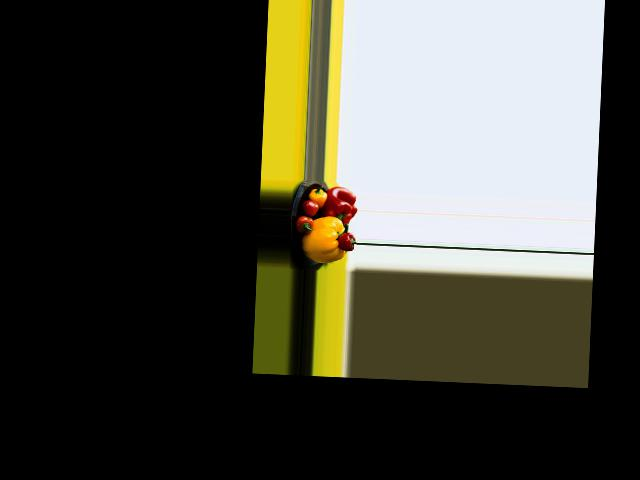bell_pepper: (309, 186, 328, 206)
